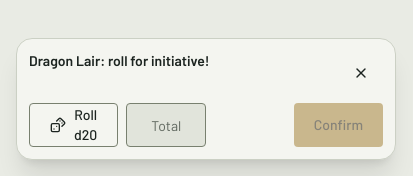
Test: InitiativeRollPrompt › rolls d20 and computes the total with modifier
Click the button "Roll d20" at {"x": 74, "y": 125}, box [29,103,118,147]
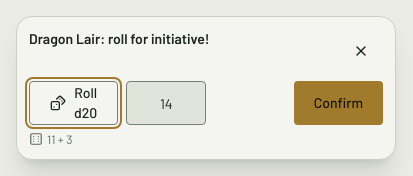
Now the field named "Initiative total" holds "14", box [126,81,206,125]
Now the text "11 + 3" is shown, box [29,132,72,146]
